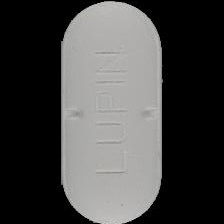27437-201: (0, 0, 224, 224)
